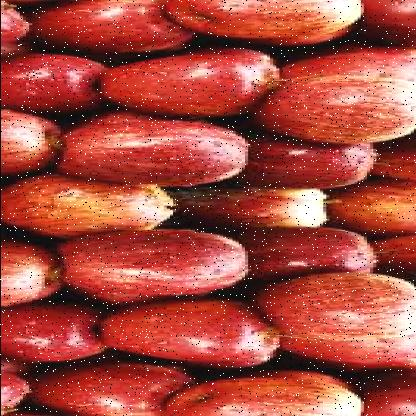apple: (6, 169, 190, 243), (106, 46, 276, 114), (72, 120, 250, 180), (97, 230, 244, 301), (110, 301, 272, 365), (259, 75, 413, 142), (225, 134, 379, 198), (32, 354, 204, 410), (285, 271, 413, 344), (184, 186, 344, 238), (9, 294, 125, 362), (175, 375, 369, 415), (240, 226, 378, 282), (179, 0, 363, 39), (3, 54, 122, 104)
